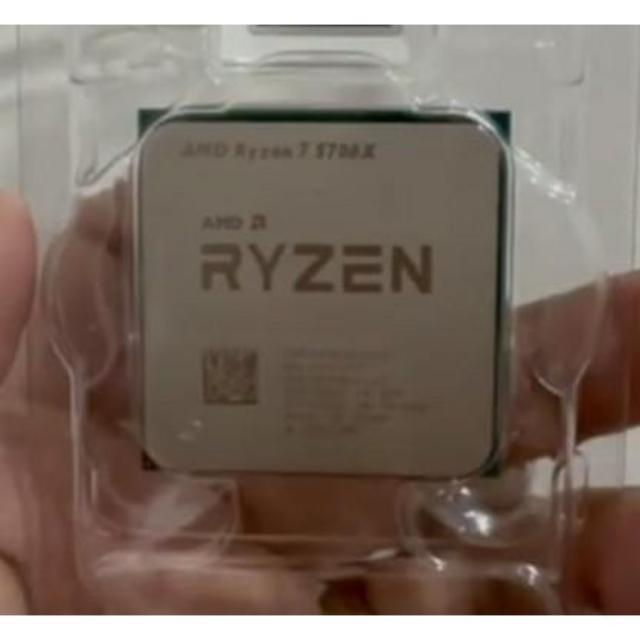CPU: (137, 115, 495, 483)
